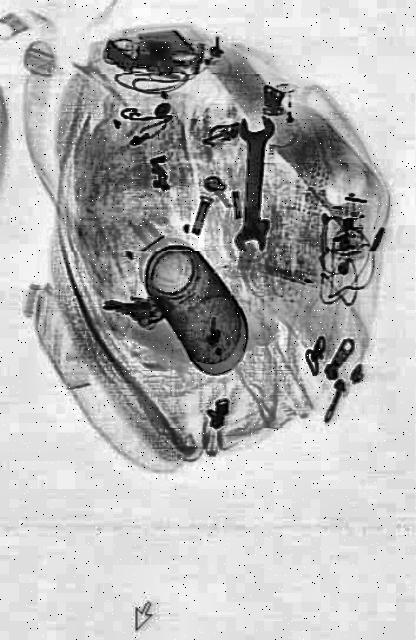Wrench: (233, 117, 273, 256)
